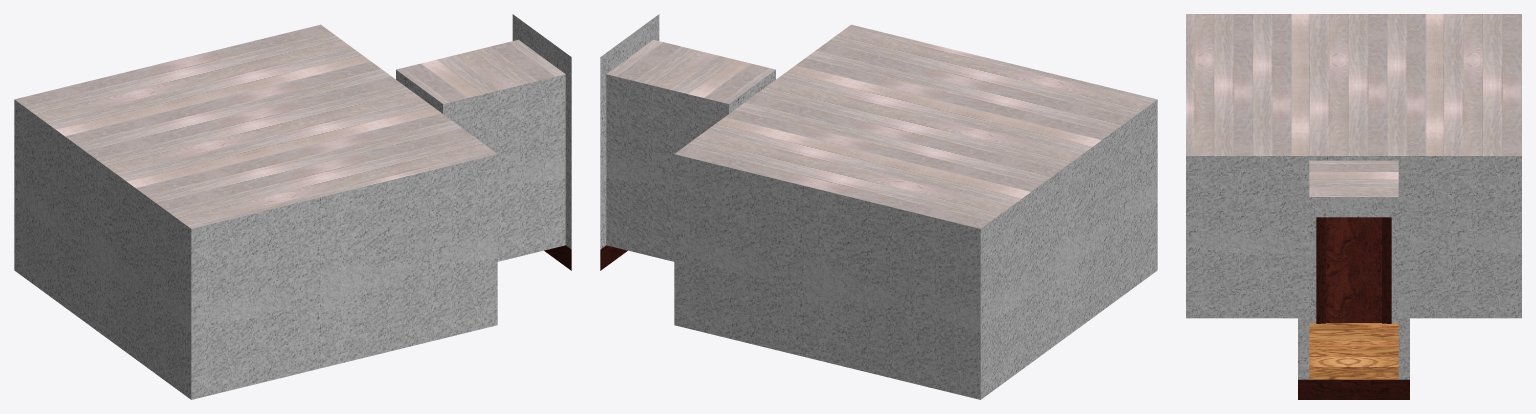
File: townDungeon7cell.gltf
3 renders of one model, left to right at view 1: azimuth 30°, elevation 25°; view 2: azimuth 150°, elevation 25°; view 3: azimuth 270°, elevation 25°, orthographic. The views are drawn at different scales.
Parts seen in each view (by area): view 1: townDungeon7cell; view 2: townDungeon7cell; view 3: townDungeon7cell.
Part boxes in pixels (x1=…): townDungeon7cell: x1=14, y1=14, x2=571, y2=399; townDungeon7cell: x1=600, y1=14, x2=1157, y2=399; townDungeon7cell: x1=1186, y1=14, x2=1521, y2=399.
Bounding box in the file's own units: 10.75 × 5 × 7.5.
4 materials, 4 textured.
